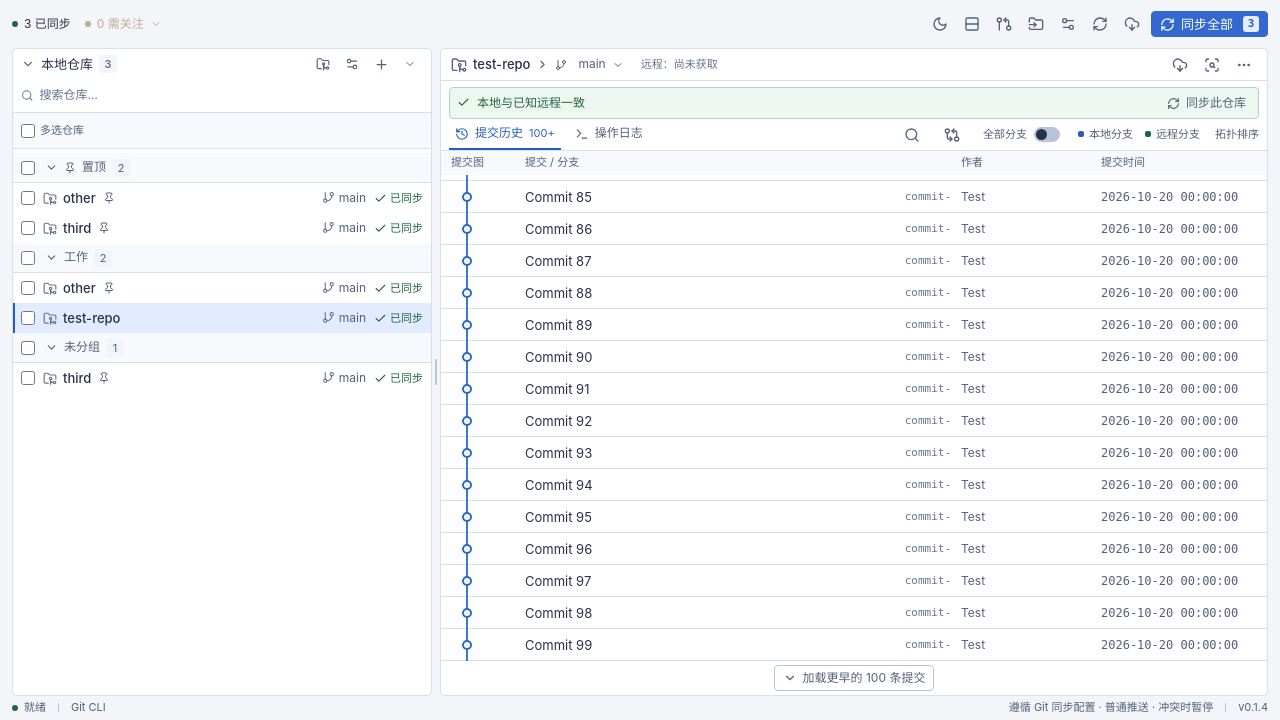
it: repository groups and bulk actions › keeps Shift anchors tied to a displayed occurrence when pinned repositories appear twice
(page scrolled)
Expected: the text "100+" is shown, [529, 126, 555, 141]
Click the button with aria-label "查看仓库 other，": coordinates (79, 288) [35, 273, 431, 303]
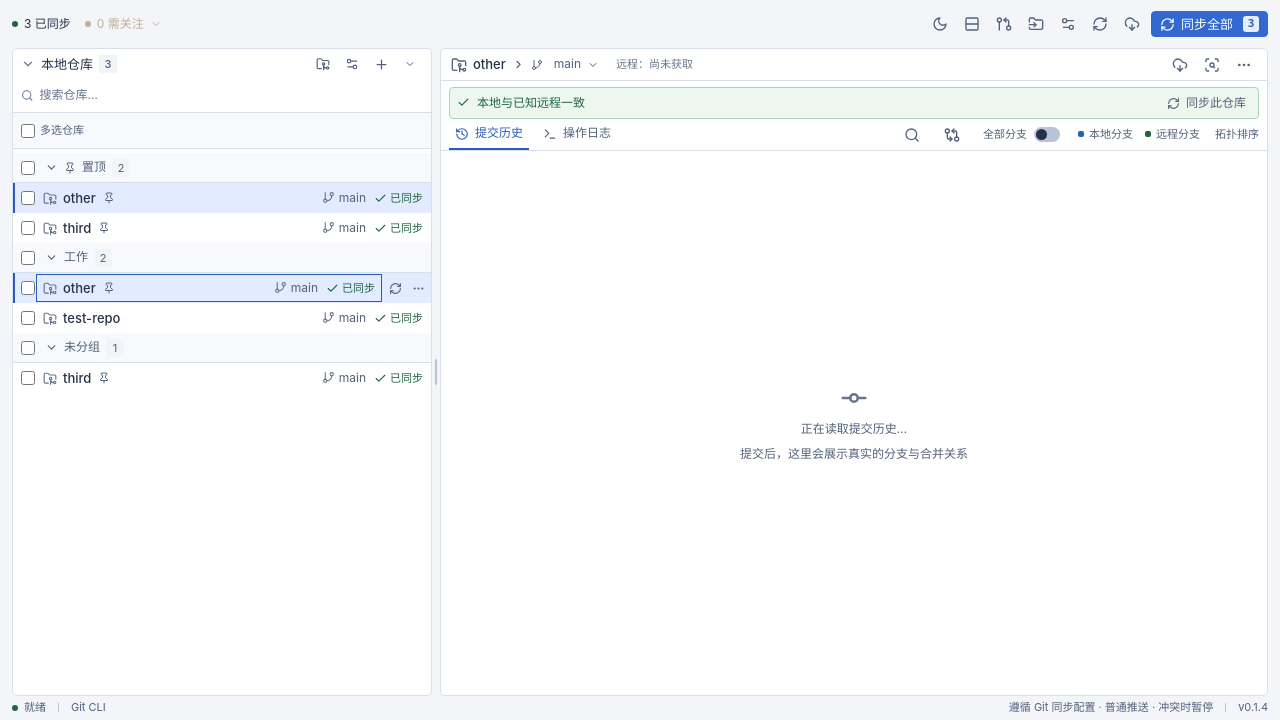
Click the checkbox named "选择仓库 test-repo": coordinates (28, 318) [21, 311, 35, 325]
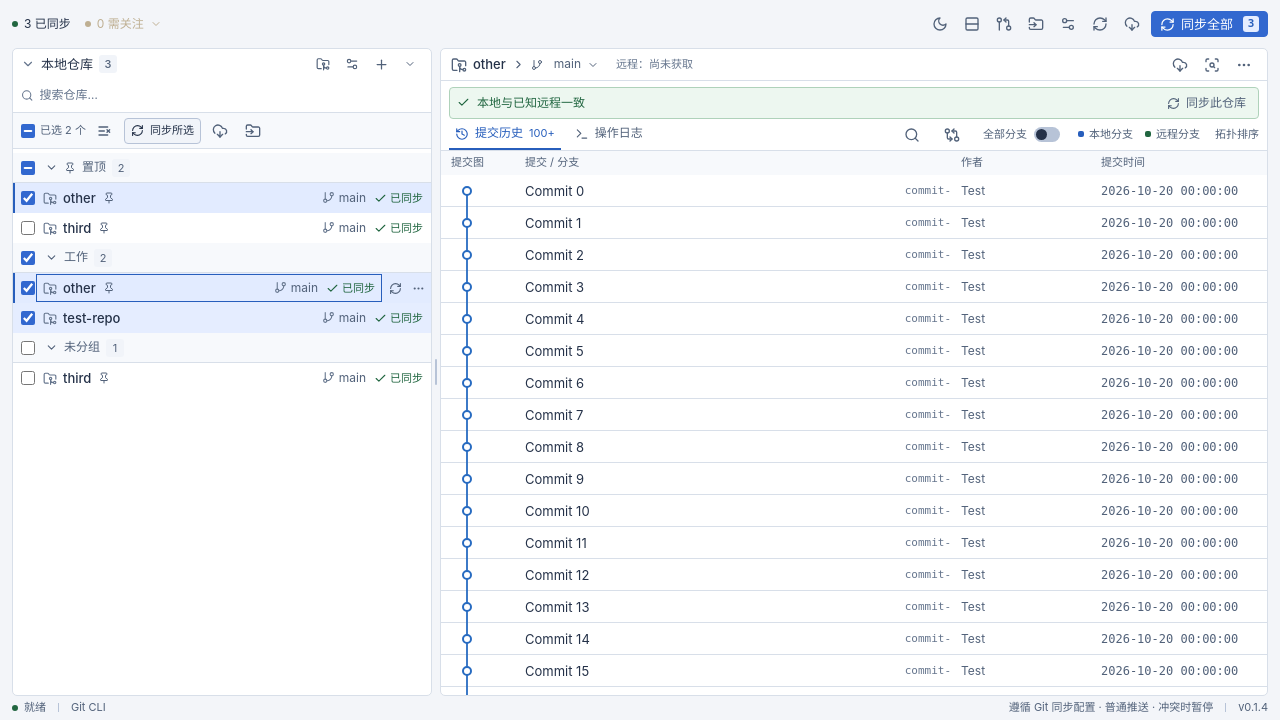
Expected: the text "已选 2 个" is shown, [40, 123, 86, 138]
